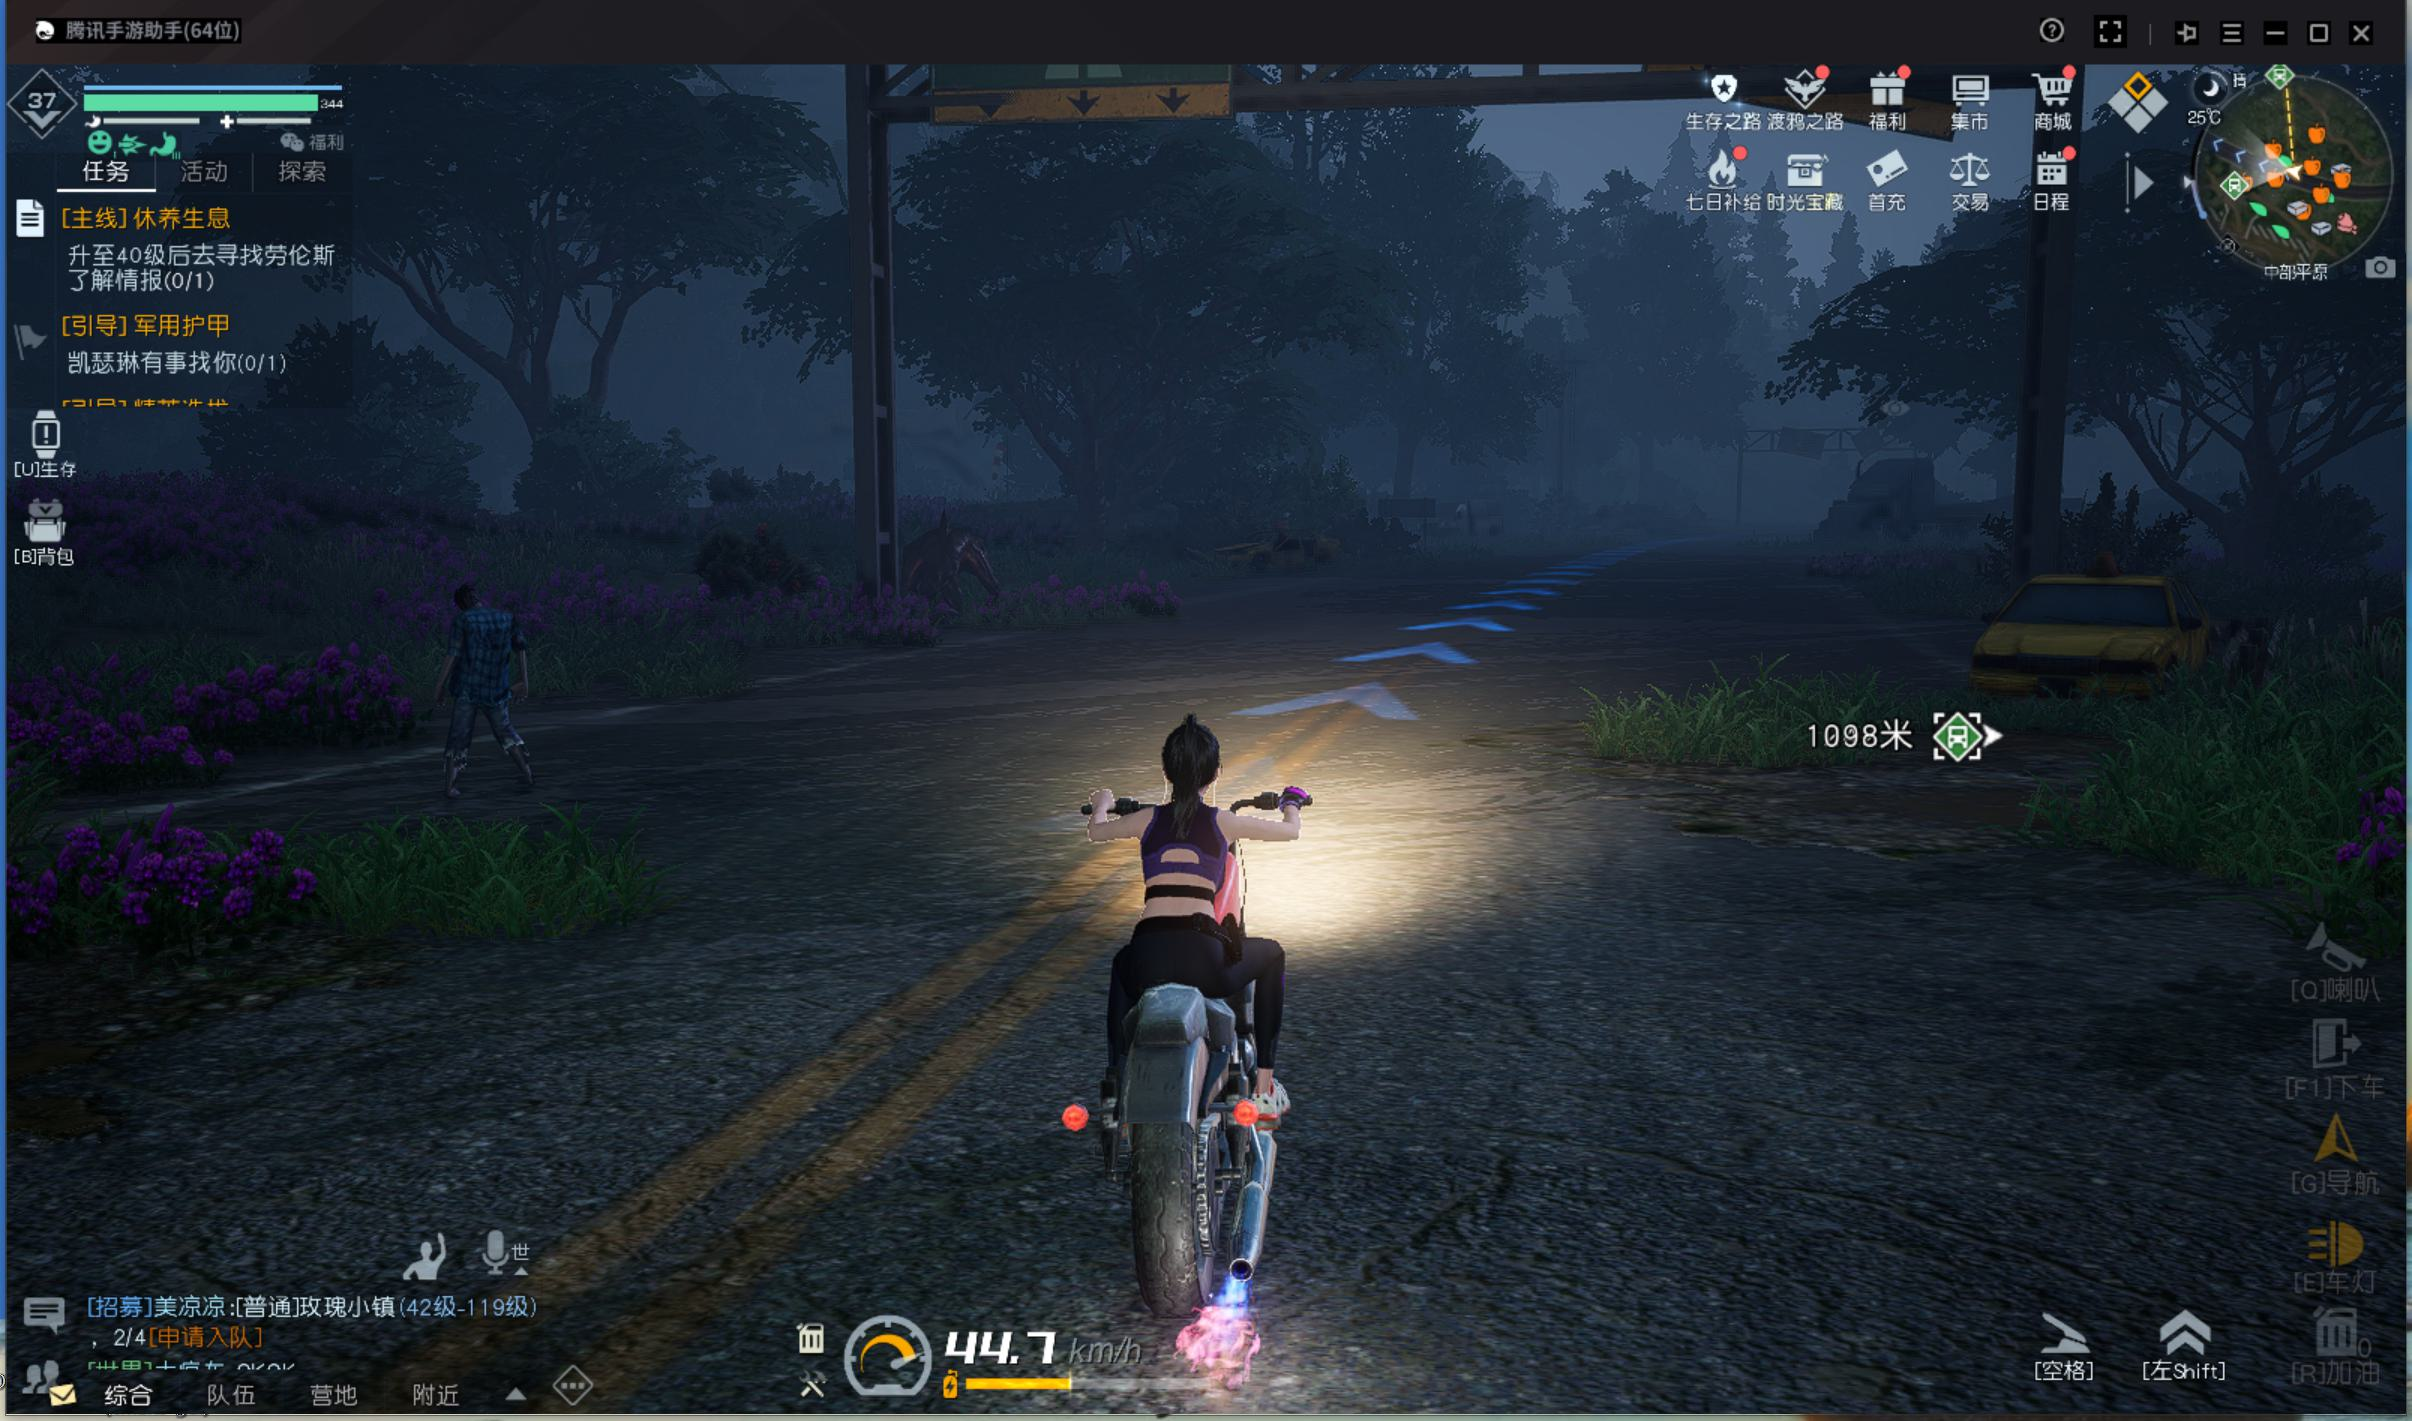tree: (502, 379, 611, 531)
